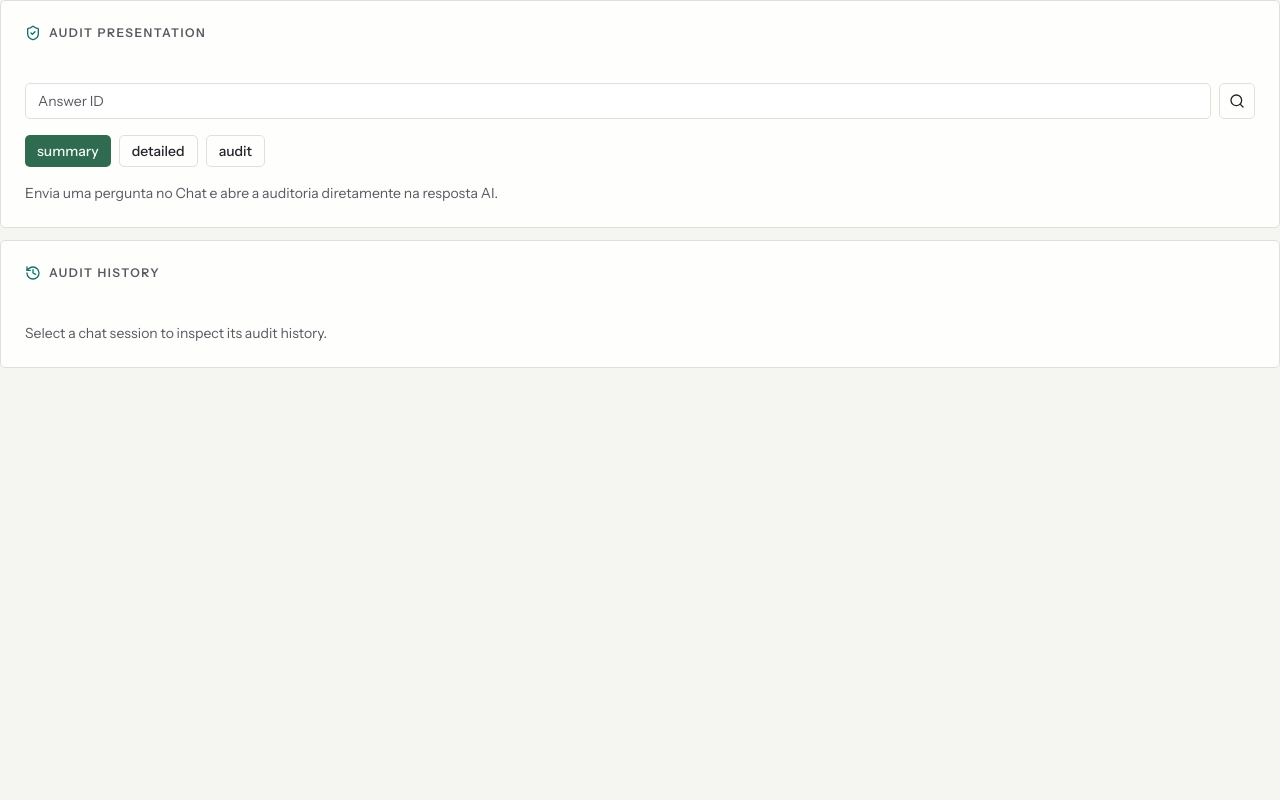
Scenario: AuditPresentationPanel › loads a selected audit mode without exposing metadata
Type "ANSWER_FRONTEND_001" into the field labelled "Answer ID".
click(618, 101); type("ANSWER_FRONTEND_001")  # box top-left (25, 83), bottom-right (1211, 119)
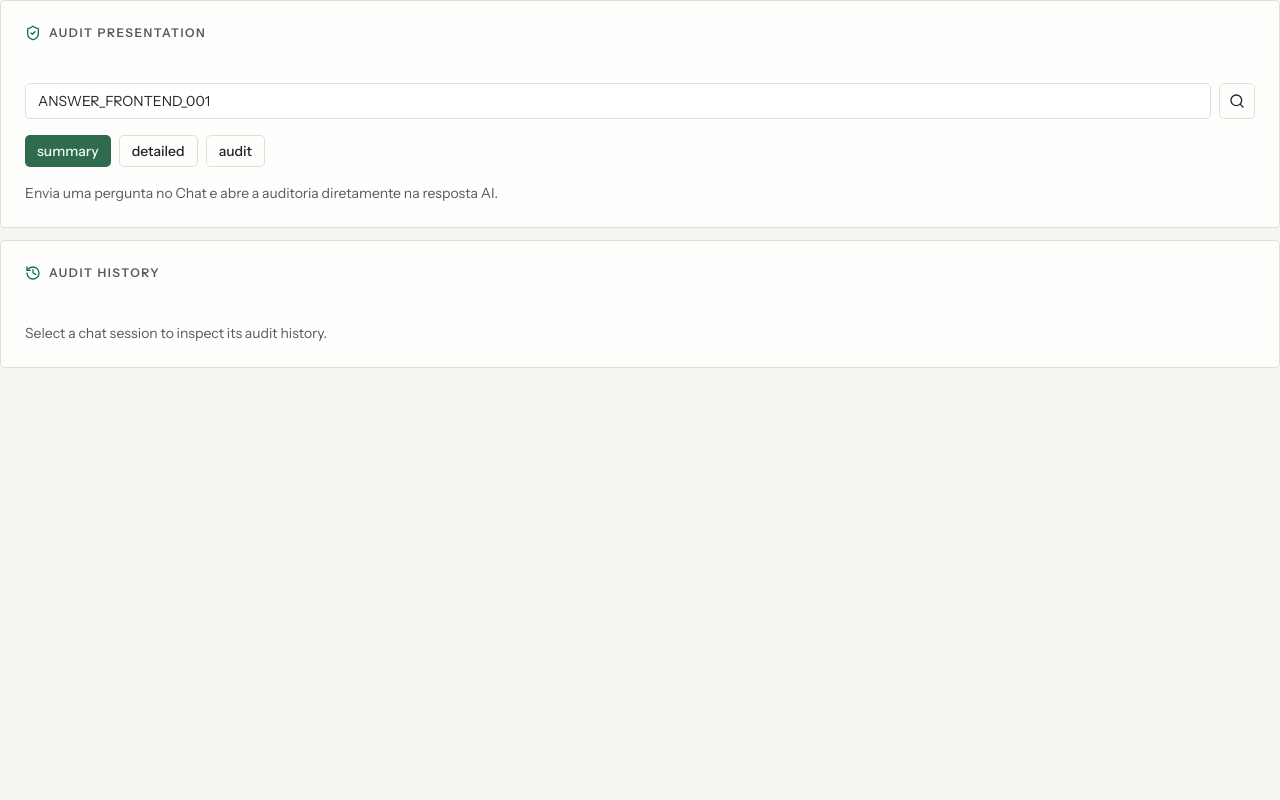
Click the button named "Load audit".
click(1237, 101)  # box top-left (1219, 83), bottom-right (1255, 119)
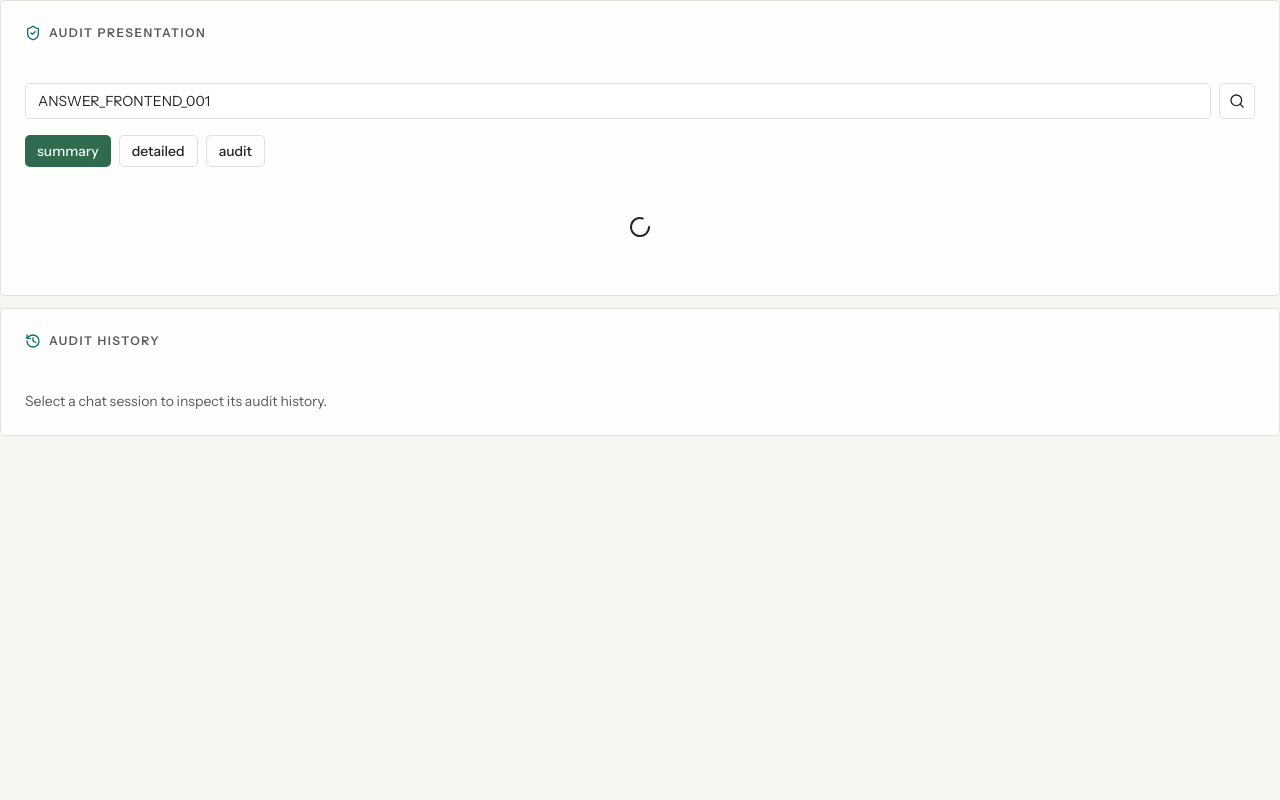
Click the button "audit".
click(235, 151)  # box top-left (206, 135), bottom-right (265, 167)
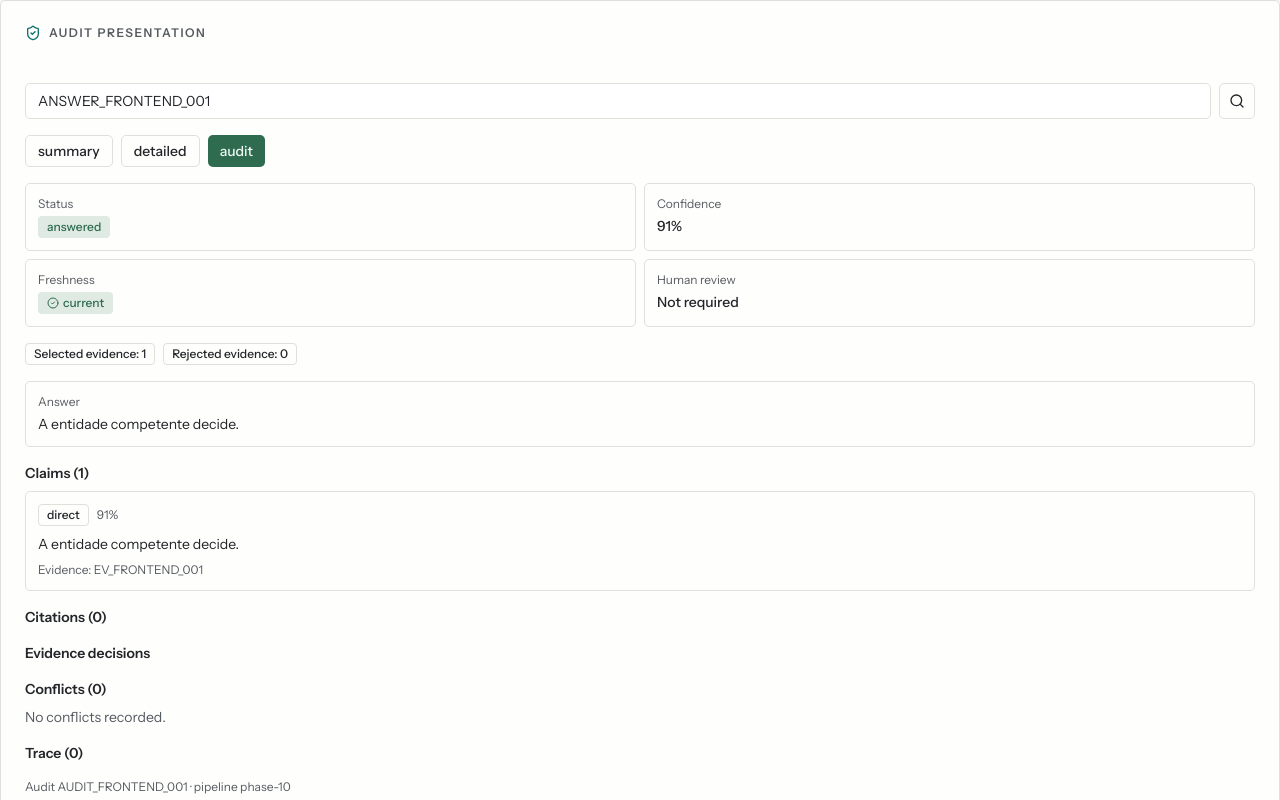
Expected: the element with test id "audit-presentation" is shown
Expected: the text "A entidade competente decide." is shown 2 times, top-left (38, 415), bottom-right (239, 433); top-left (38, 535), bottom-right (239, 553)
